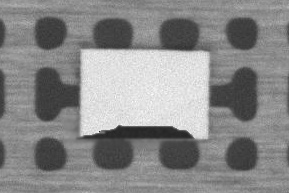DIE_BROKEN: (79, 123, 196, 140)
